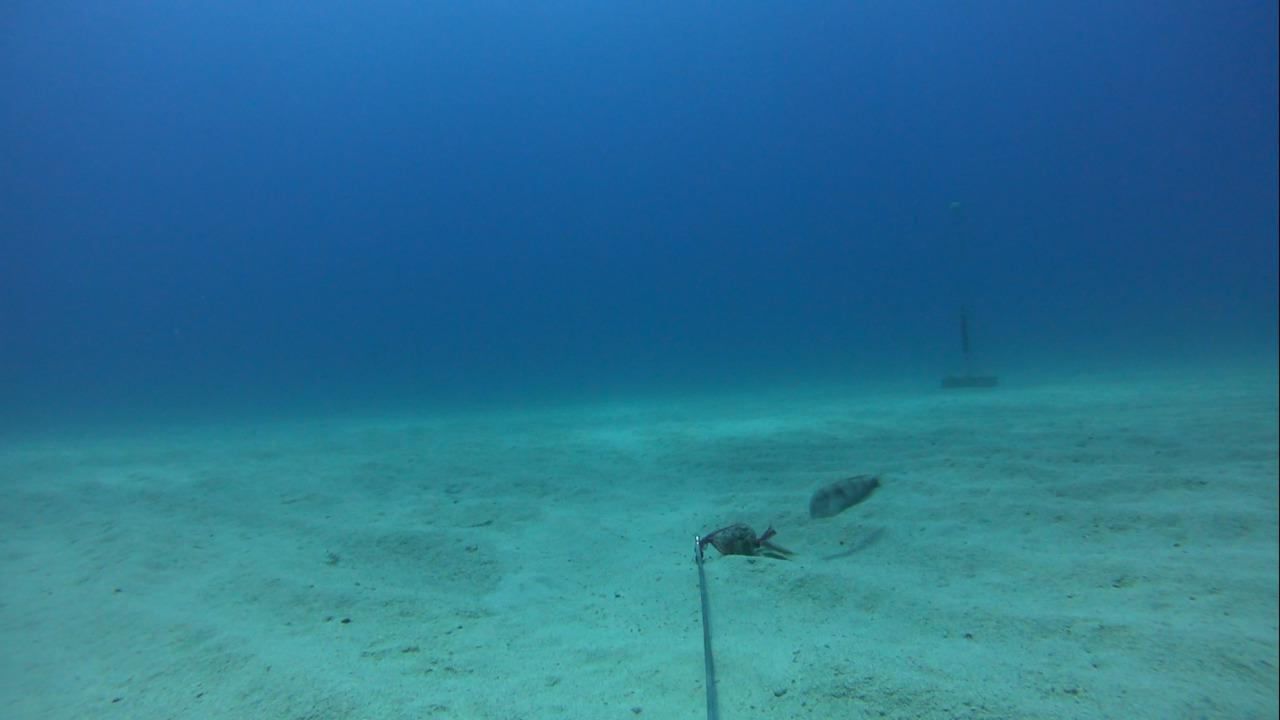raor: (802, 467, 889, 524)
